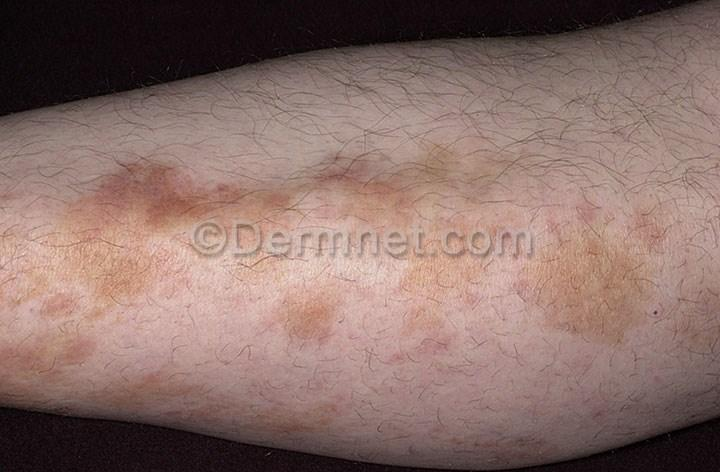Eczema: (367, 262, 608, 432), (149, 255, 361, 412), (0, 235, 149, 402), (267, 131, 521, 224), (47, 126, 266, 228), (607, 188, 720, 358), (536, 167, 603, 265)
